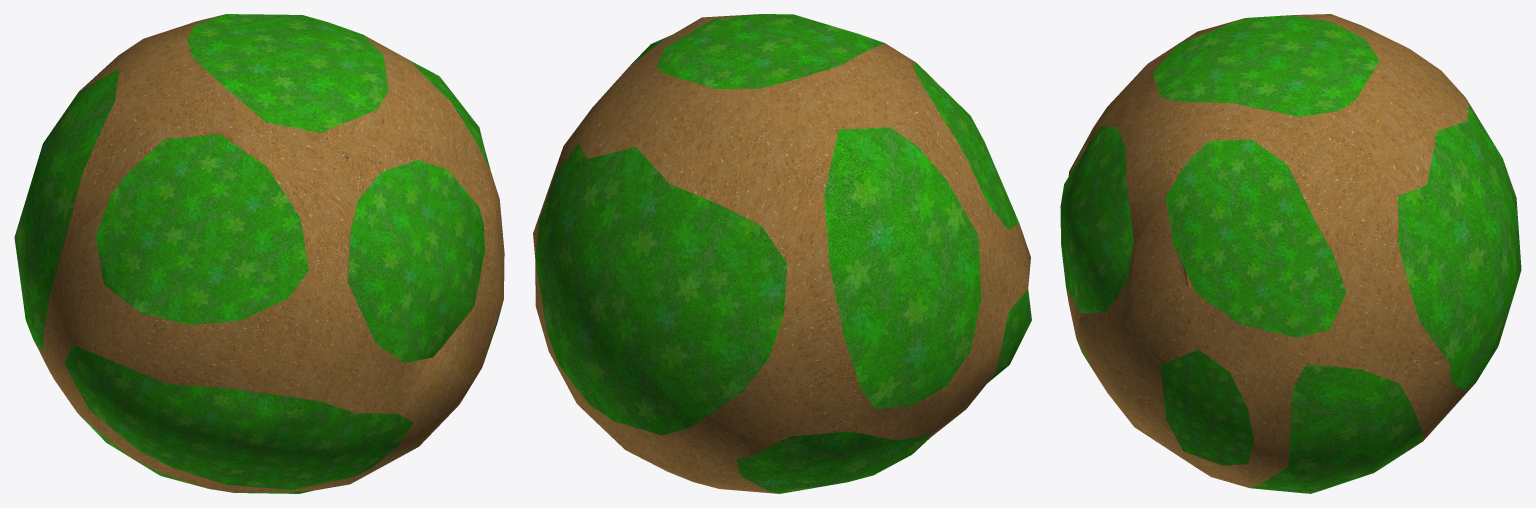
File: MODELLOW.obj
3 views of the same model, side by side, from view 1: azimuth 30°, elevation 25°; view 2: azimuth 150°, elevation 25°; view 3: azimuth 270°, elevation 25° (orthographic). The views are drawn at different scales.
Visible parts, largest first — view 1: Sphere.000_Sphere.019, Sphere.001_Sphere.000; view 2: Sphere.000_Sphere.019, Sphere.001_Sphere.000; view 3: Sphere.000_Sphere.019, Sphere.001_Sphere.000.
Part boxes in pixels (x1,y1,x2,y2): Sphere.000_Sphere.019: [14, 14, 502, 493]; Sphere.001_Sphere.000: [34, 14, 504, 492]; Sphere.000_Sphere.019: [535, 14, 1031, 493]; Sphere.001_Sphere.000: [533, 14, 1030, 493]; Sphere.000_Sphere.019: [1060, 15, 1521, 493]; Sphere.001_Sphere.000: [1066, 14, 1474, 487].
Size of the model in its own units: 2023 by 1966 by 1978.
Materials: 2 (2 with a texture image).
